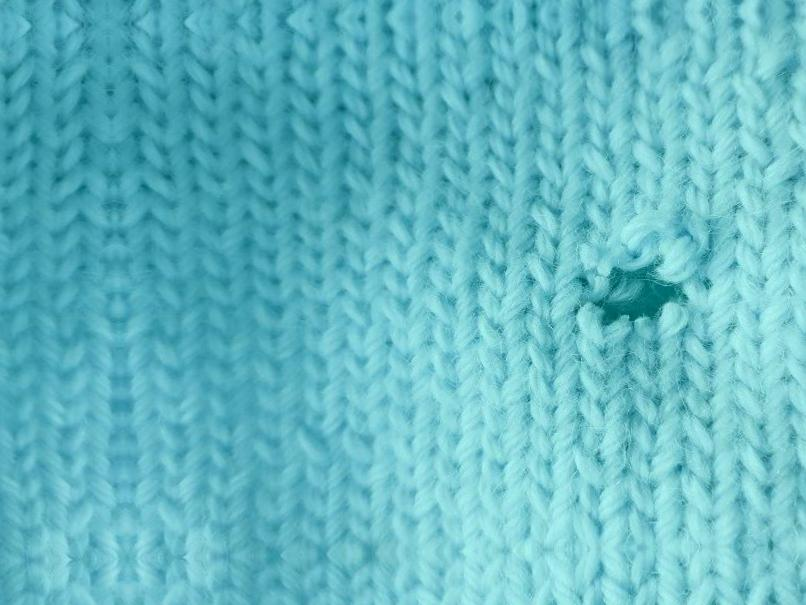hole: (554, 234, 709, 343)
